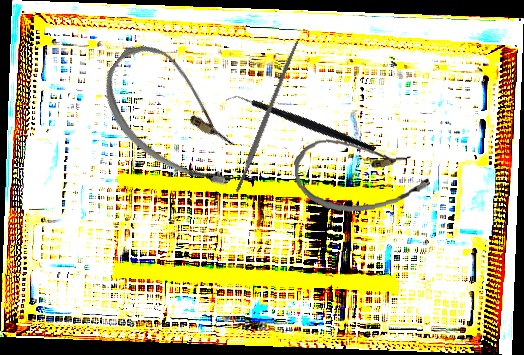Cannula: (82, 30, 269, 205), (292, 130, 432, 217)
Chopper: (224, 52, 377, 197)
Scalpel Handle: (232, 38, 301, 195)
